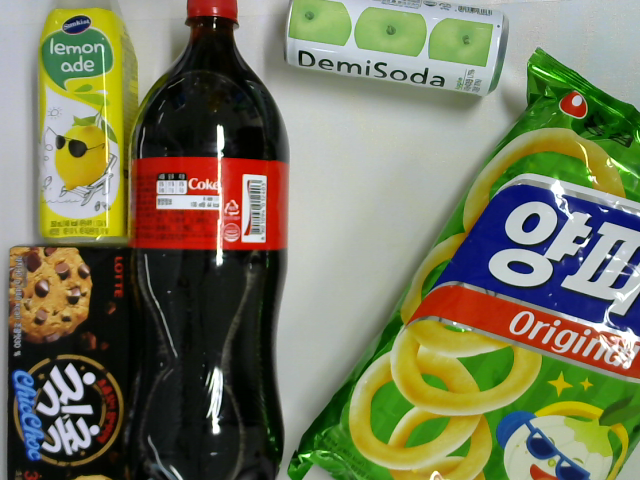Chicchok_Original_2400: (5, 242, 135, 480)
Coca_Cola_1.5L: (127, 1, 290, 480)
Demisoda_Apple_Can_250ml: (282, 1, 510, 95)
Oninon_Ring: (287, 49, 640, 480)
Sunkist_Lemonaid_Pet: (34, 1, 140, 247)
